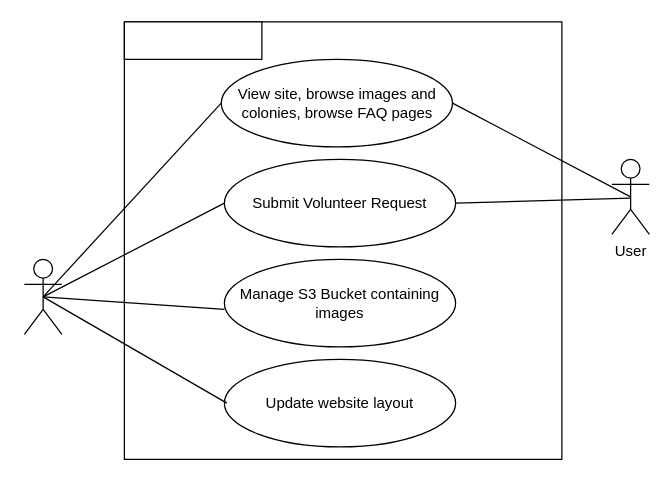
This 671x481 diagram has some shape labels left out. The shapes that lost their labels are listed below. From the top down, each one's centre as x and y in pixels, then its label:
At pixel 192 40: "Temple Cats Site".
At pixel 42 296: "Admin".
